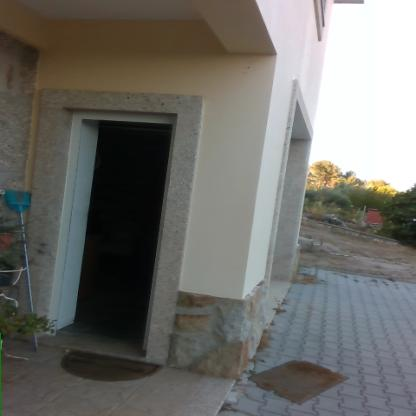open: (42, 93, 192, 366)
